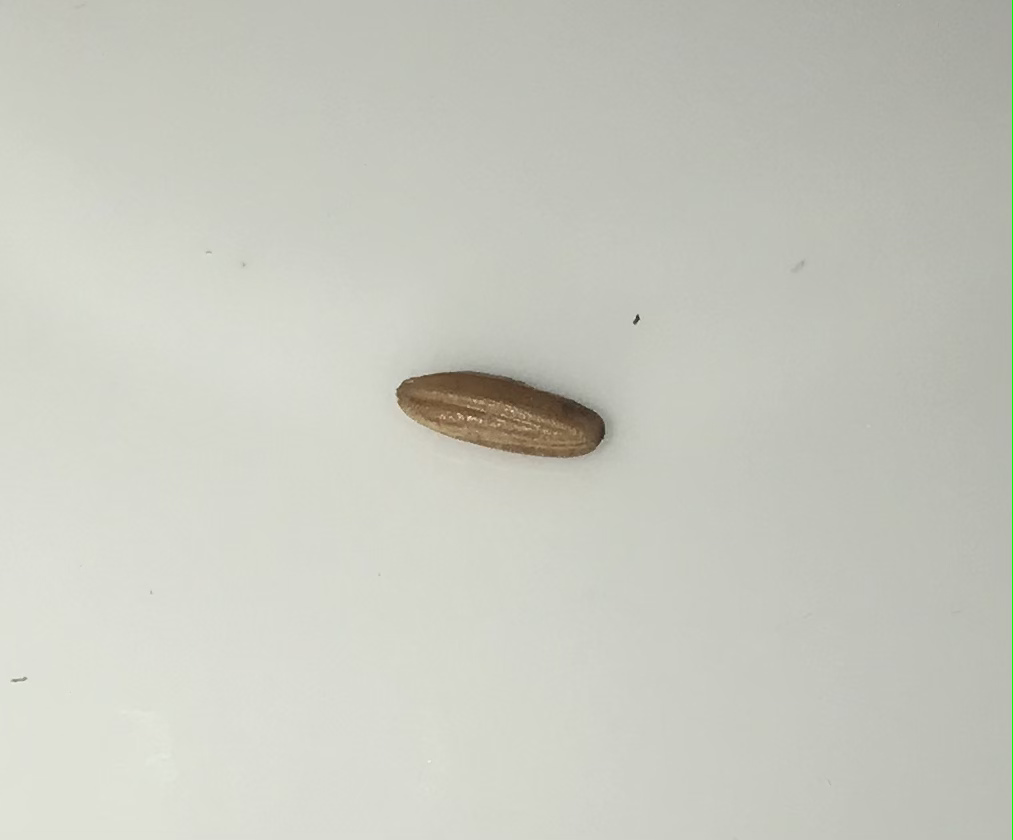Gao Lut Dien Bien: (391, 329, 610, 482)
